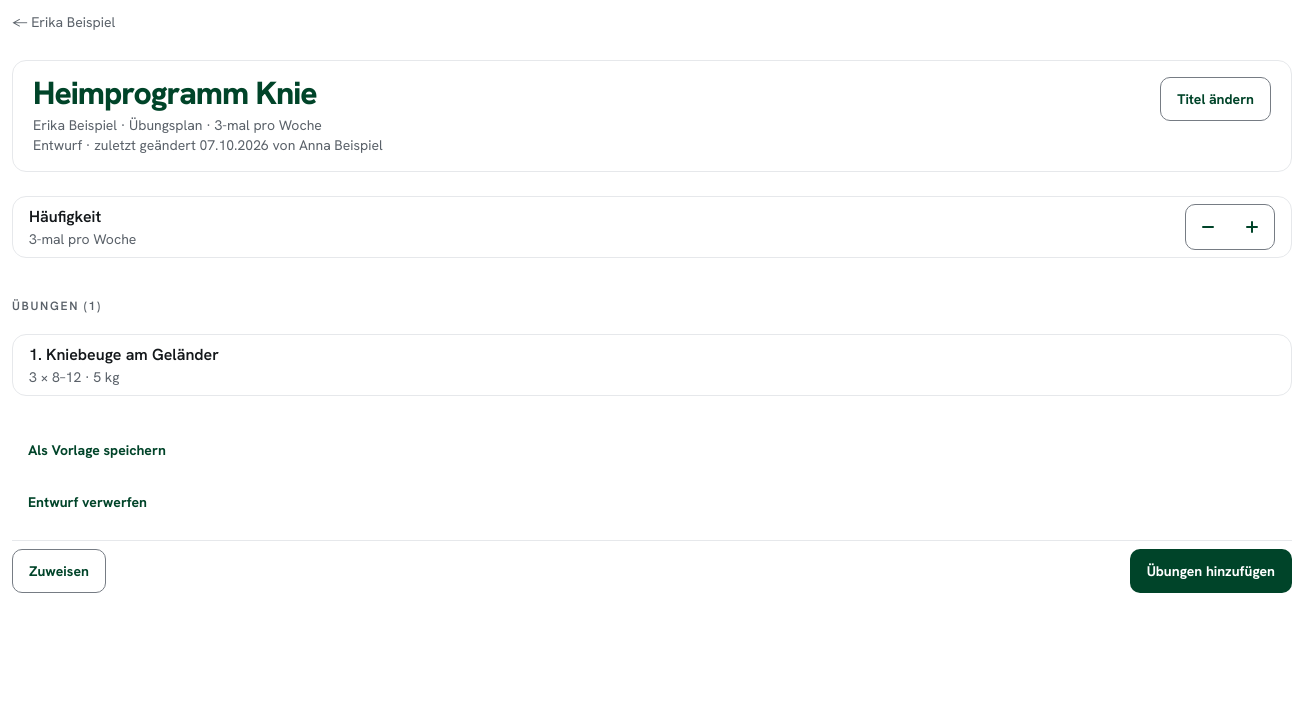
Test: Planeditor: Entwurf als Arbeitsseite (UEB-004, Welle B) › zeigt die Häufigkeit pro Woche im Entwurf und ändert sie mit je einem Tipp (Befund B9)
Expected: the list item "Häufigkeit" shows "3-mal pro Woche", [29, 230, 136, 248]
Expected: the text "Erika Beispiel · Übungsplan · 3-mal pro Woche" is shown, [33, 116, 322, 134]
Click the button named "Häufigkeit: mehr" at (1252, 227), box [1230, 205, 1274, 249]
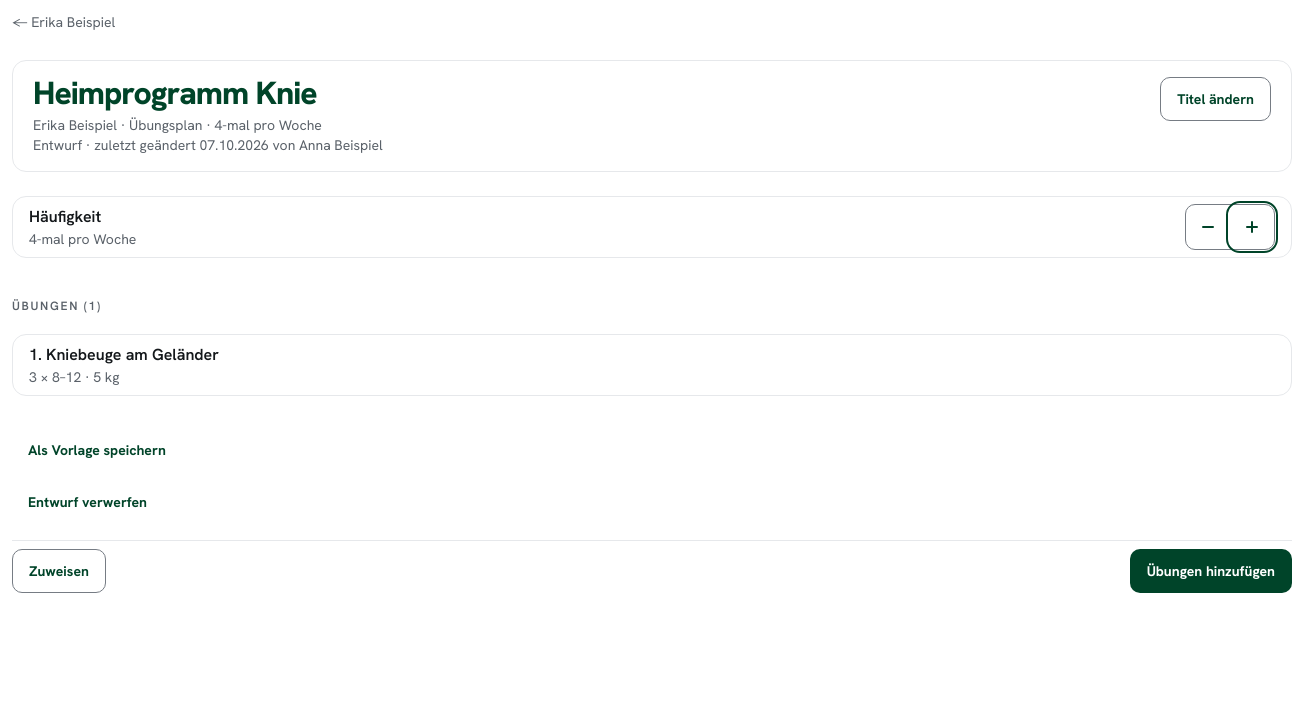
Expected: the text "Erika Beispiel · Übungsplan · 4-mal pro Woche" is shown, [33, 116, 322, 134]
Expected: the list item "Häufigkeit 4-mal pro Woche" is shown, [29, 197, 1275, 257]
